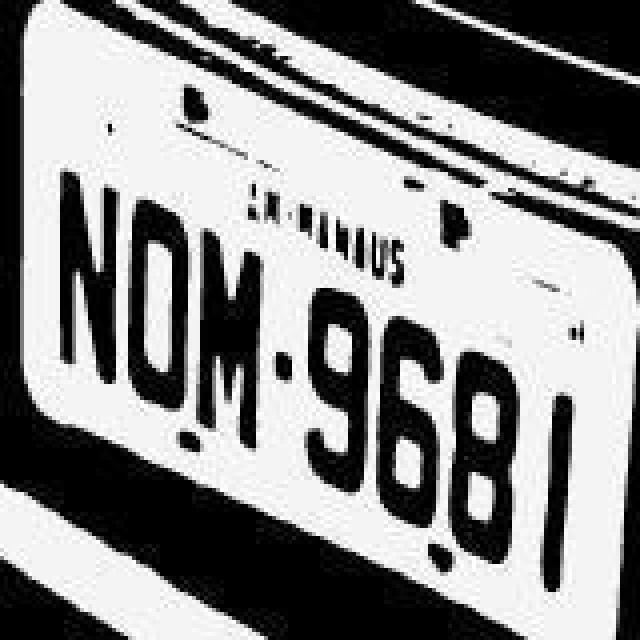1: (534, 390, 586, 594)
6: (370, 304, 446, 528)
8: (444, 332, 524, 564)
9: (302, 280, 378, 496)
M: (190, 218, 266, 446)
N: (52, 170, 124, 390)
O: (124, 196, 196, 412)
